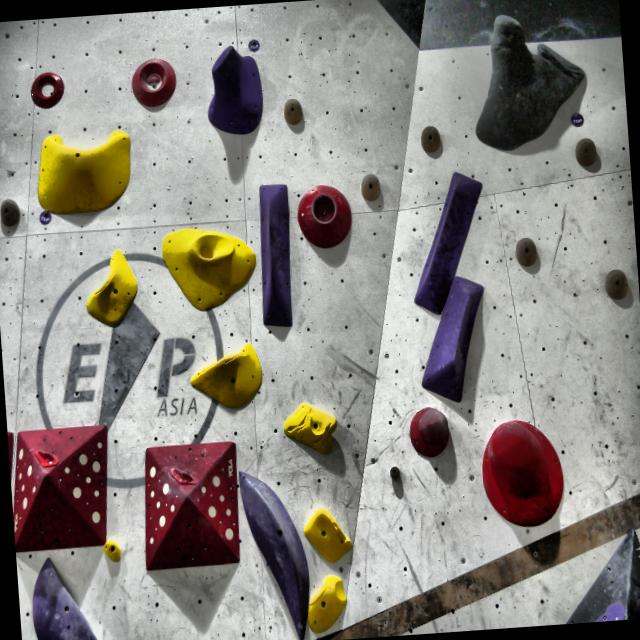Hold: (226, 449, 314, 640), (468, 12, 584, 154), (408, 170, 502, 308), (155, 209, 258, 319), (477, 412, 568, 530), (36, 112, 132, 220), (416, 275, 496, 404), (26, 550, 107, 640), (201, 38, 268, 146), (254, 174, 298, 336), (182, 342, 267, 420), (70, 240, 141, 326), (295, 171, 350, 247), (286, 384, 342, 454), (122, 55, 186, 114), (21, 53, 72, 121), (299, 505, 354, 567), (298, 575, 356, 627), (402, 397, 449, 459), (600, 589, 634, 621), (158, 462, 194, 492), (31, 442, 60, 472), (106, 545, 126, 564)
